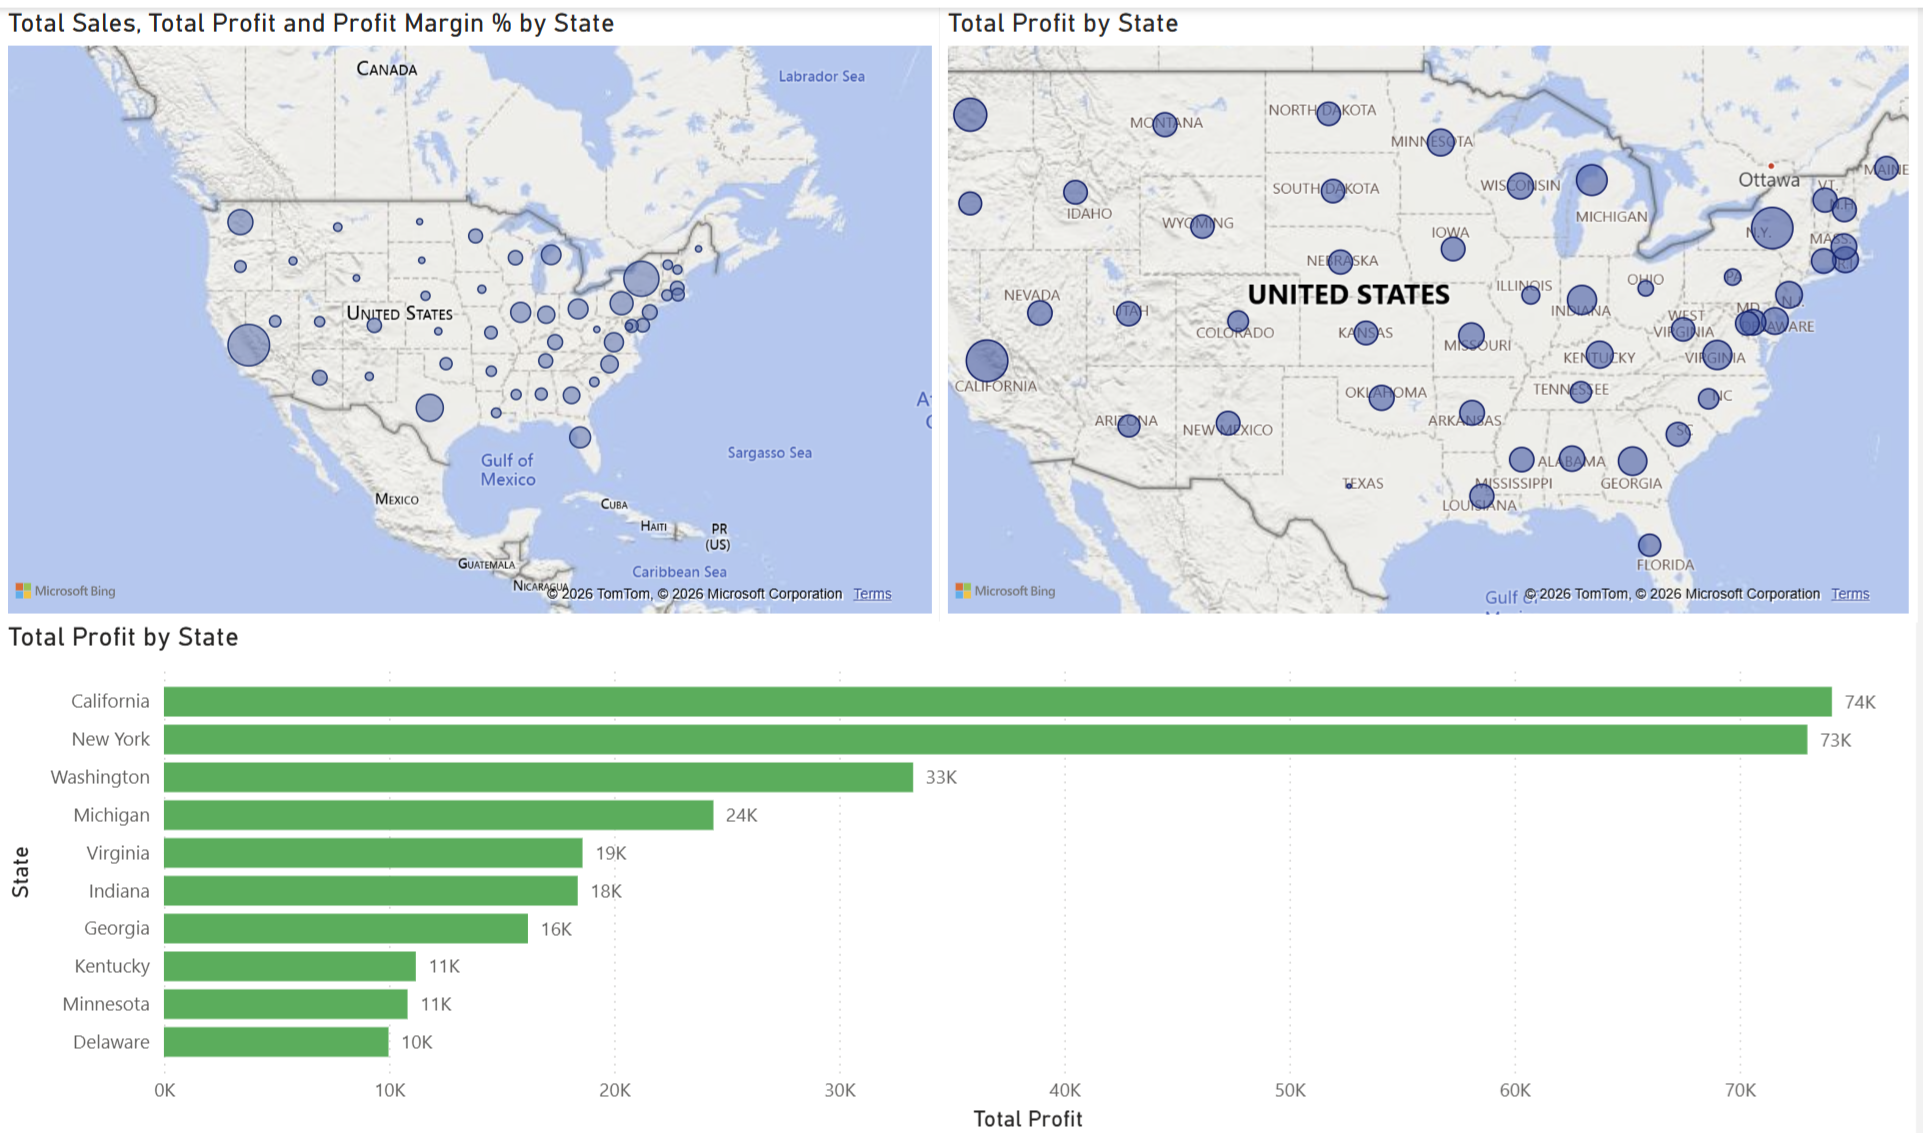

The page's visual inventory and layout, read from the dashboard file:
{"tool":"powerbi","page":{"name":"Geographic analysis","canvas":[1280,720],"ordinal":2},"visuals":[{"type":"map","fields":{"Category":["SampleSuperstore.State"],"Size":["SampleSuperstore.Total Sales"]},"box":[0,0,598.6,391.4],"z":0},{"type":"map","fields":{"Category":["SampleSuperstore.State"],"Size":["SampleSuperstore.Total Profit"]},"box":[598.6,0,622.9,391.4],"z":1000},{"type":"clusteredBarChart","fields":{"Category":["SampleSuperstore.State"],"Y":["SampleSuperstore.Total Profit"]},"box":[0,391.4,1221.4,330],"z":2000}]}

Visuals, with their boxes on the page's 1280x720 design canvas (x1, y1, x2, y2). These are canvas units, not pixel positions in the 1923x1133 screenshot, which may show the page scaled, cropped or inside an application window:
map - SampleSuperstore.State x SampleSuperstore.Total Sales: box(0, 0, 599, 391)
map - SampleSuperstore.State x SampleSuperstore.Total Profit: box(599, 0, 1222, 391)
clusteredBarChart - SampleSuperstore.State x SampleSuperstore.Total Profit: box(0, 391, 1221, 721)
